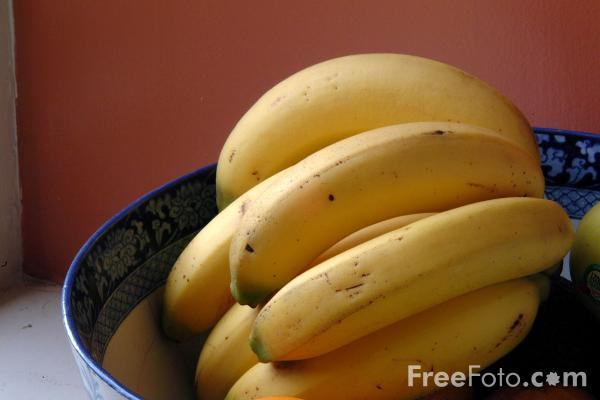Banana: (227, 123, 544, 309), (250, 197, 575, 363)
